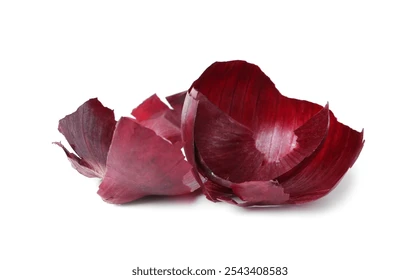food_waste: (64, 71, 355, 218)
